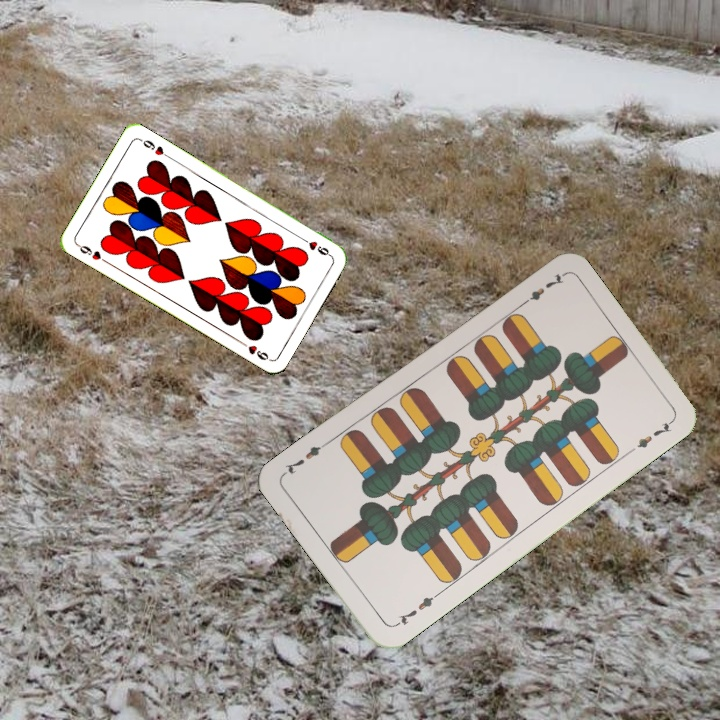E7: (390, 589, 441, 630), (515, 270, 567, 310)
H9: (297, 233, 333, 259), (73, 240, 110, 265)
